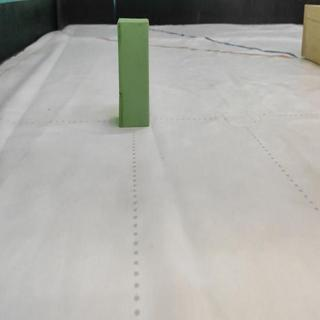greenbox: (116, 15, 150, 129)
